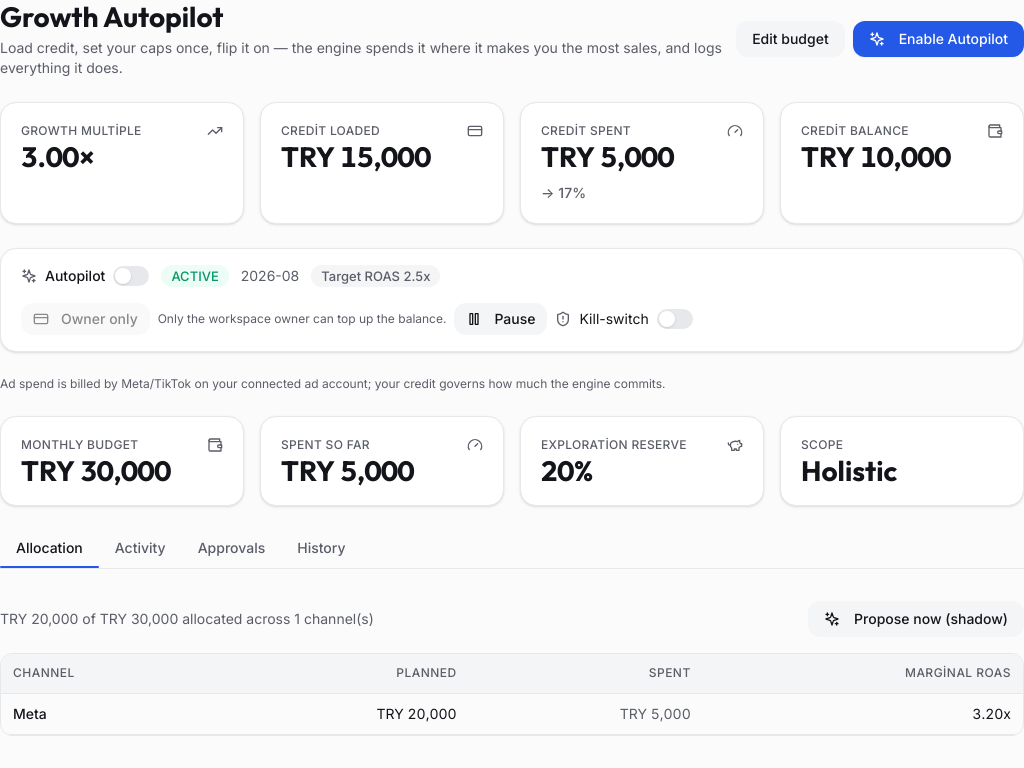
Test case: BudgetAutopilotPage — embedded › keeps its own budget dialog when it is NOT embedded
Click the button "Edit budget": {"x": 790, "y": 39} x1=736 y1=21 x2=845 y2=57
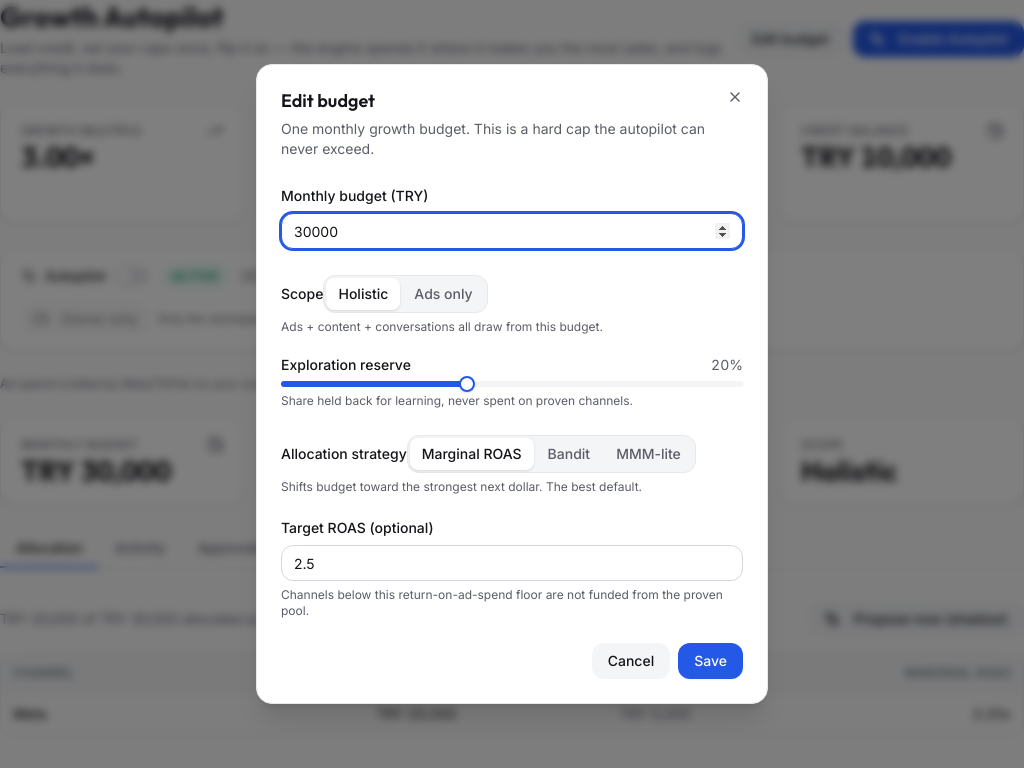
Now the heading "Edit budget" is shown, box x1=281 y1=89 x2=375 y2=112
